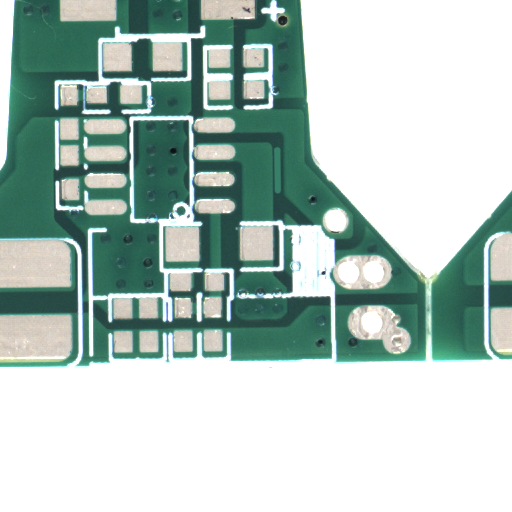Spurious_copper: (277, 169, 286, 218)
